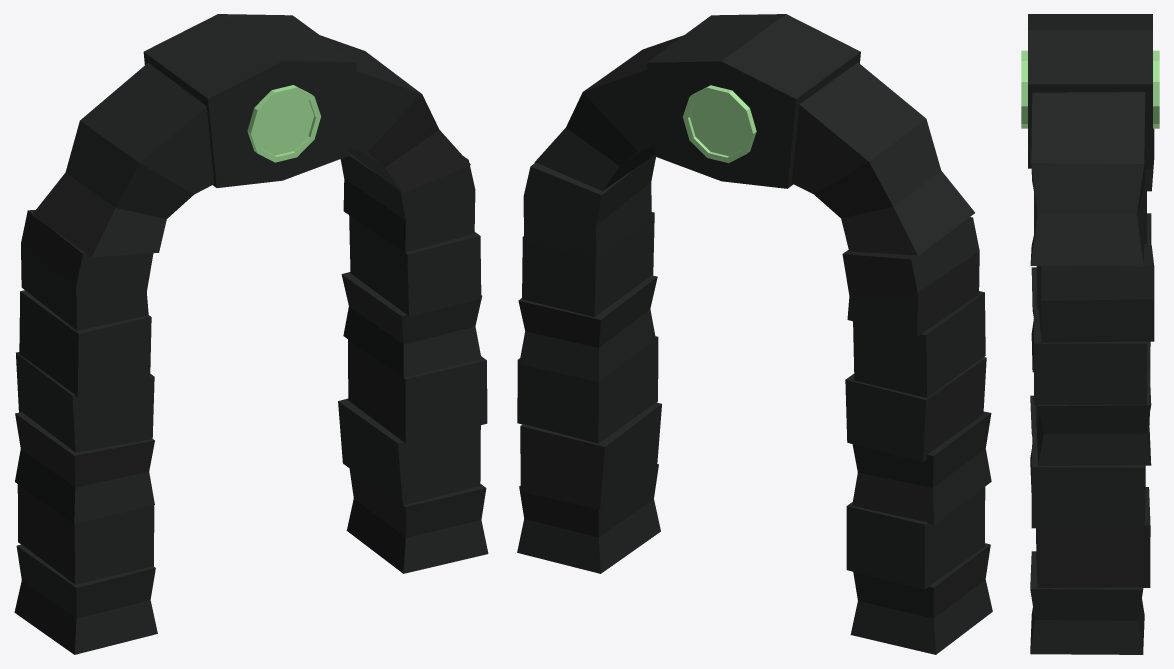
The model's file is Archway_4_Black.fbx.
The picture shows the model from 3 angles, left to right: view 1: azimuth 30°, elevation 25°; view 2: azimuth 150°, elevation 25°; view 3: azimuth 270°, elevation 25°; orthographic projection. The views are drawn at different scales.
Parts seen in each view (by area): view 1: Archway_4_Black_Part_1, Archway_4_Black_Part_2; view 2: Archway_4_Black_Part_1, Archway_4_Black_Part_2; view 3: Archway_4_Black_Part_1, Archway_4_Black_Part_2.
Boxes of the visible parts, x1=… form: Archway_4_Black_Part_1: x1=14, y1=14, x2=488, y2=654; Archway_4_Black_Part_2: x1=247, y1=85, x2=320, y2=162; Archway_4_Black_Part_1: x1=517, y1=14, x2=992, y2=654; Archway_4_Black_Part_2: x1=683, y1=85, x2=756, y2=163; Archway_4_Black_Part_1: x1=1028, y1=14, x2=1154, y2=654; Archway_4_Black_Part_2: x1=1021, y1=50, x2=1159, y2=128.
Bounding box in the file's own units: 570 × 710 × 169.
